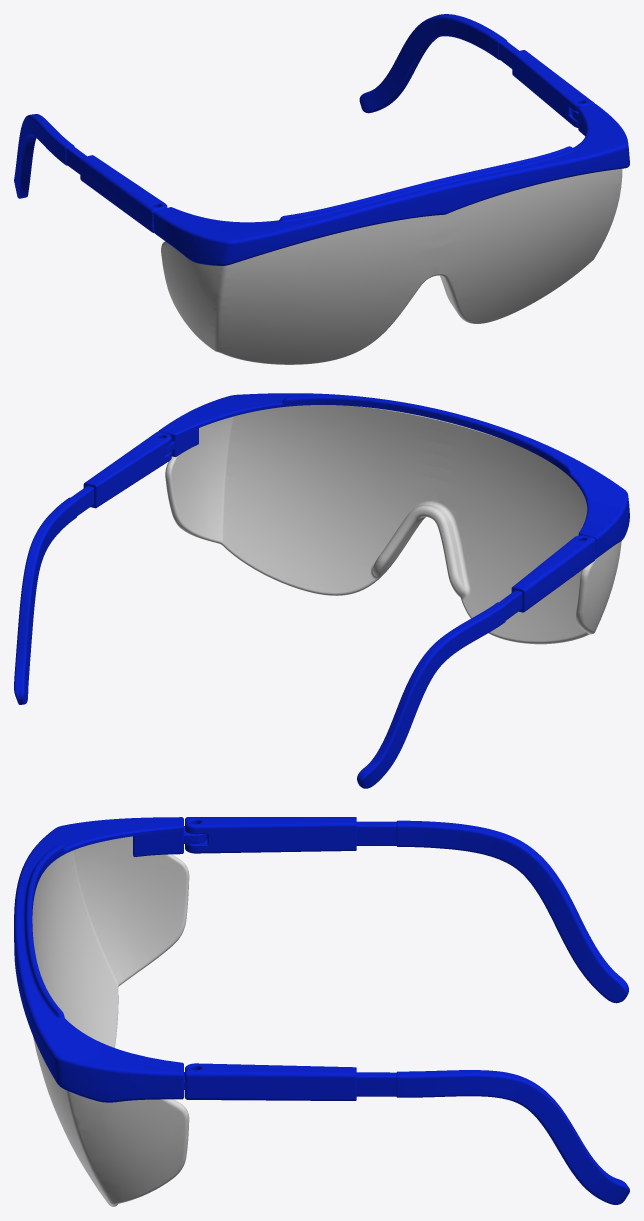
File: Очки.fbx
3 renders of one model, top to bottom at view 1: azimuth 30°, elevation 25°; view 2: azimuth 150°, elevation 25°; view 3: azimuth 270°, elevation 25°, orthographic. The views are drawn at different scales.
Parts seen in each view (by area): view 1: model_2; view 2: model_2; view 3: model_2.
Boxes of the visible parts, x1=… form: model_2: x1=14, y1=14, x2=629, y2=364; model_2: x1=14, y1=393, x2=629, y2=788; model_2: x1=14, y1=817, x2=629, y2=1206.
Size of the model in its own units: 15.51 by 6.11 by 15.62.
